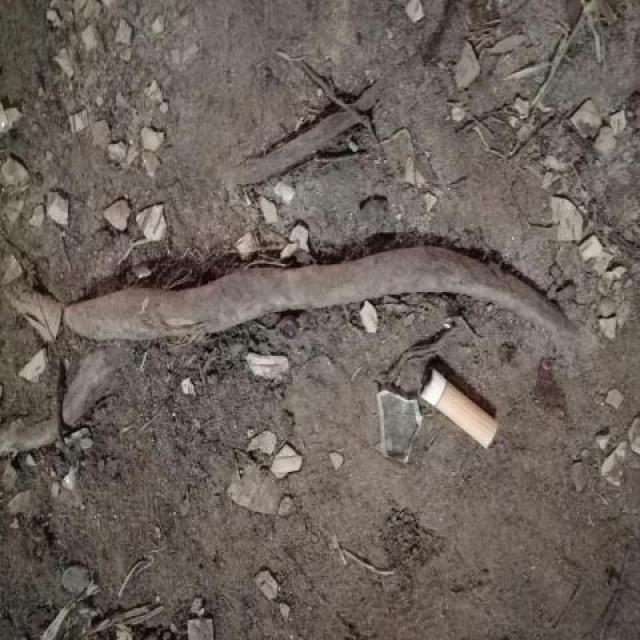non-organic waste: (417, 364, 503, 452)
